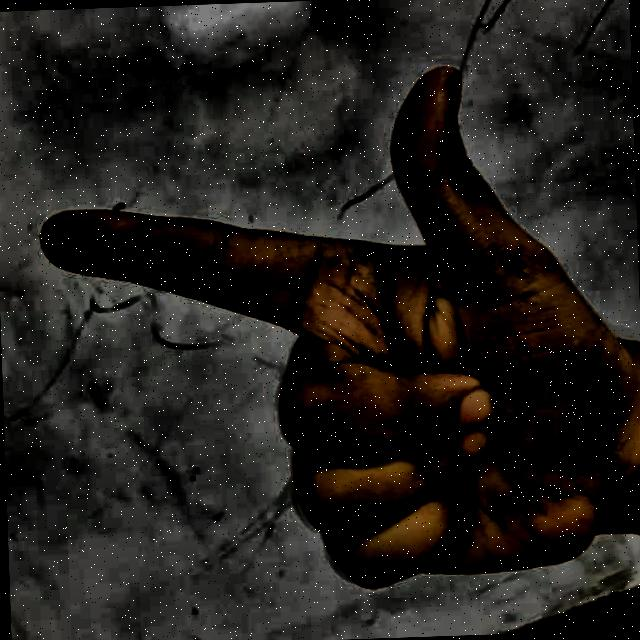Tha: (24, 46, 622, 619)
